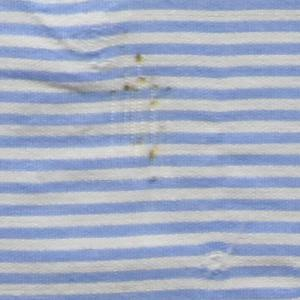Damage: (12, 1, 183, 184), (192, 220, 257, 291)
Oil Stain: (108, 48, 177, 191)
